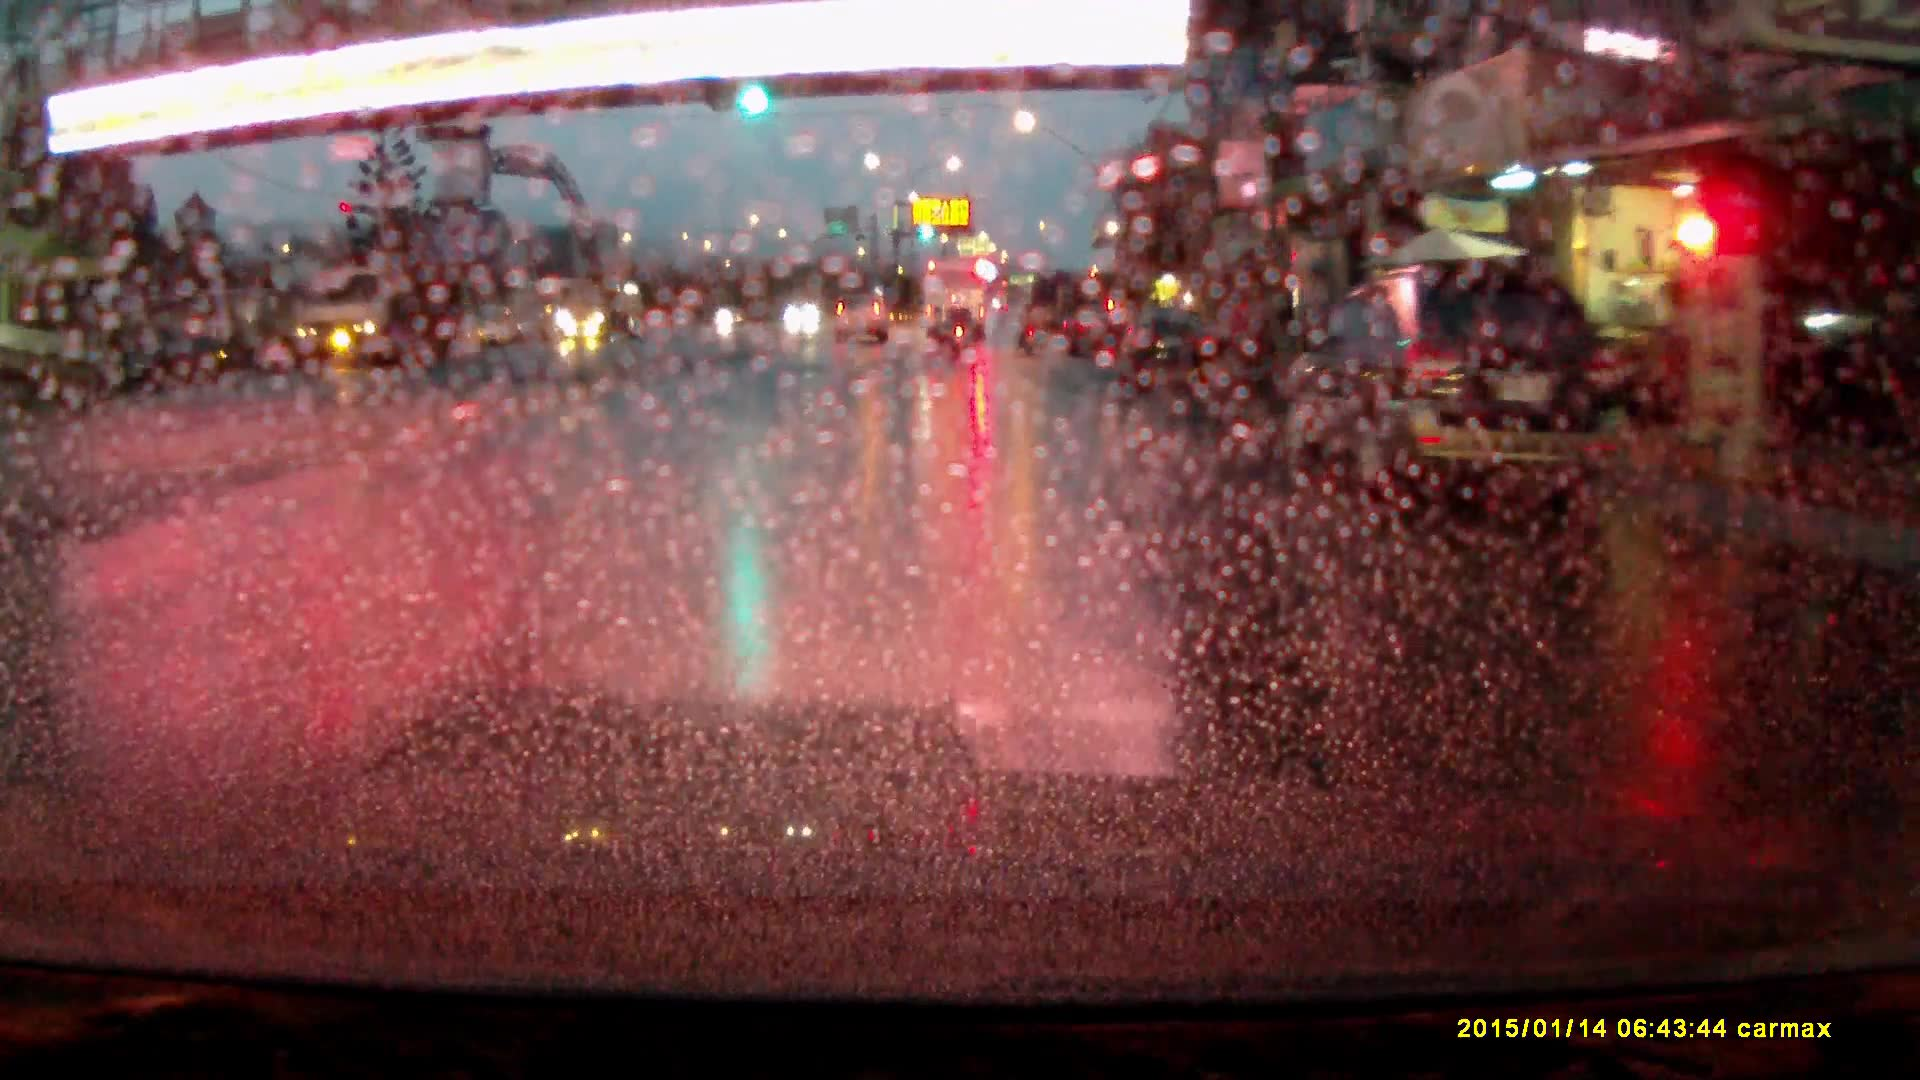rider: (947, 297, 973, 353)
vehicle: (1281, 256, 1643, 501), (288, 271, 456, 371), (1115, 304, 1216, 387), (554, 283, 649, 344), (920, 260, 990, 342), (1062, 305, 1130, 360), (832, 275, 888, 323)
